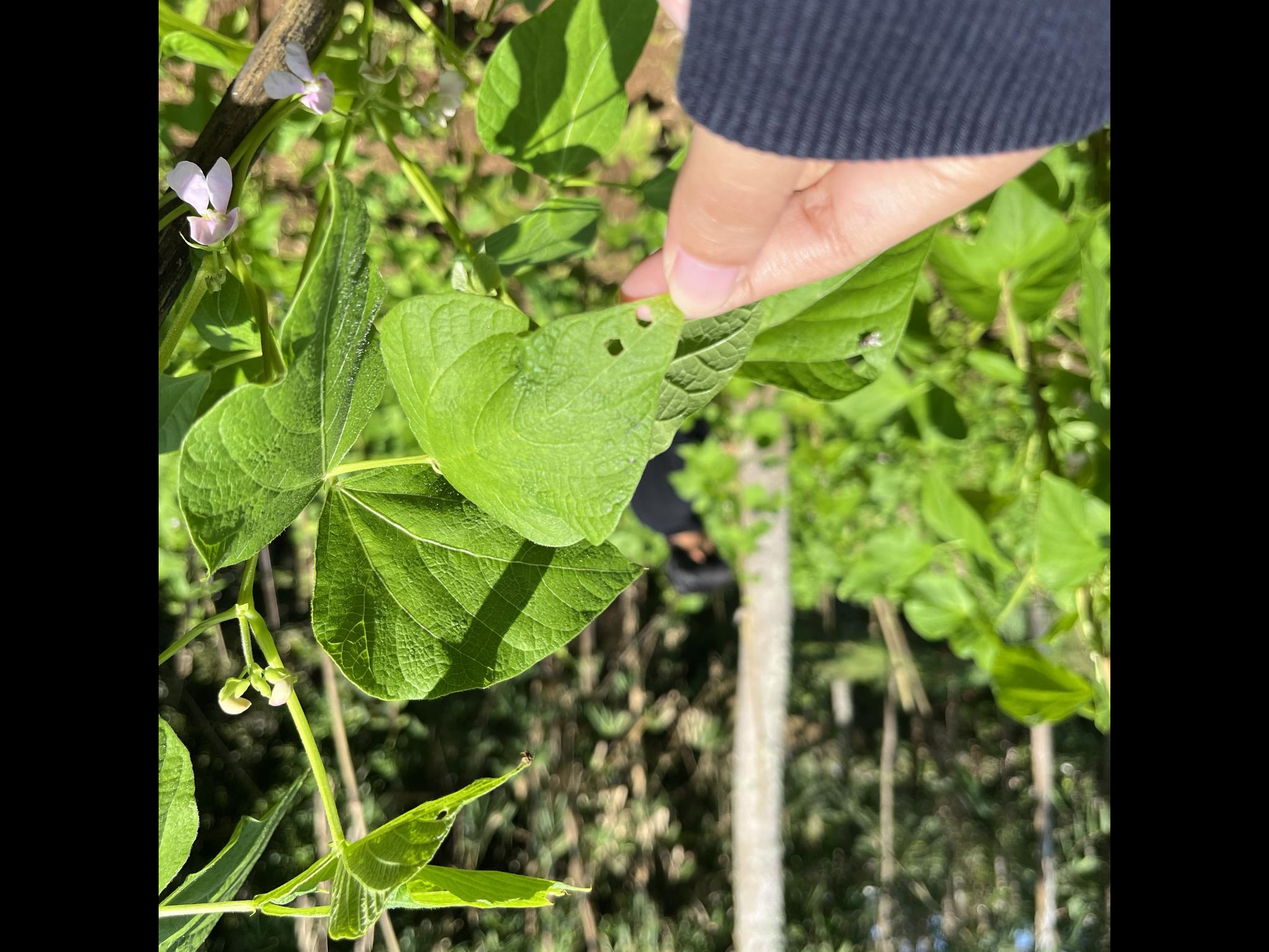mozaik: (600, 324, 626, 361), (639, 303, 664, 334)
